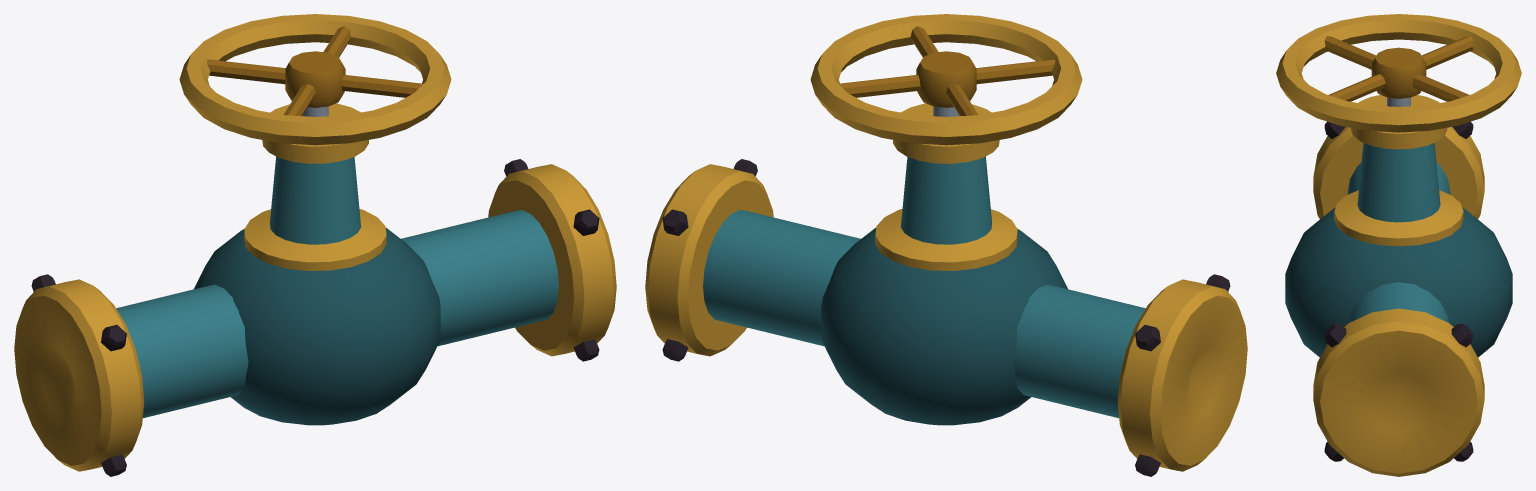
Rendered from Valve_11.glb.
3 views of the same model, side by side, from view 1: azimuth 30°, elevation 25°; view 2: azimuth 150°, elevation 25°; view 3: azimuth 270°, elevation 25° (orthographic). The views are drawn at different scales.
Parts seen in each view (by area): view 1: Valve_11; view 2: Valve_11; view 3: Valve_11.
Boxes of the visible parts, x1,y1,x2,y2 form: Valve_11: (14,14,616,476); Valve_11: (645,14,1247,476); Valve_11: (1276,14,1521,476).
Bounding box in the file's own units: 3.14 × 2.04 × 1.44.
